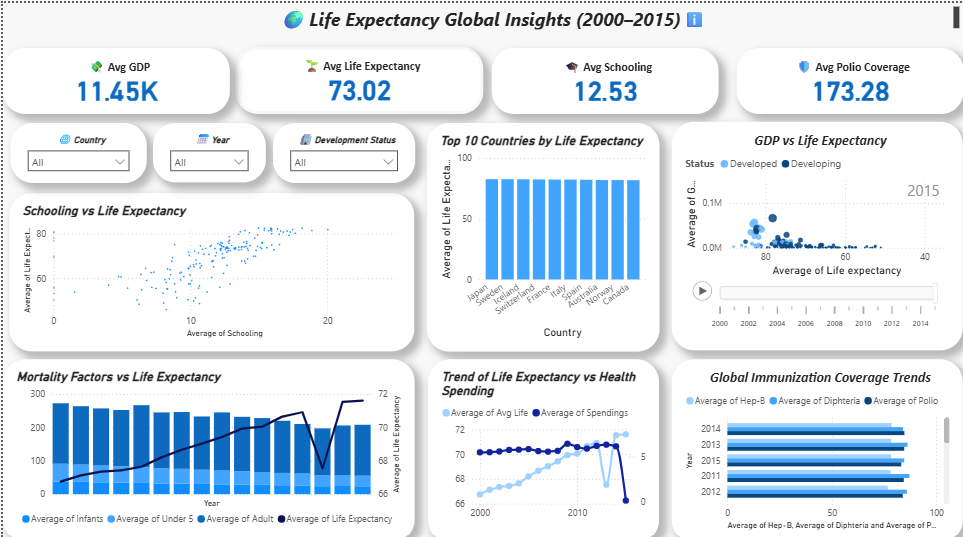

What the dashboard file says about the page in this screenshot:
{"tool":"powerbi","page":{"name":"Dashboard","canvas":[1280,720],"ordinal":0},"visuals":[{"type":"textbox","box":[0,0,1280,40],"z":0},{"type":"card","title":"🌱 Avg Life Expectancy","fields":{"Values":["Avg(life_analysis view_status_summary.avg_life)"]},"box":[310,57.5,330,89.6],"z":1000,"group":"g1"},{"type":"group","id":"g1","title":"Group 1","box":[0,57.5,1280,90],"z":1000},{"type":"card","title":"💸 Avg GDP","fields":{"Values":["Avg(life_analysis view_status_summary.avg_gdp)"]},"box":[0,59.2,302.4,88.3],"z":2000,"group":"g1"},{"type":"clusteredColumnChart","title":"Top 10 Countries by Life Expectancy","fields":{"Category":["life_analysis view_avg_life_expectancy.Country"],"Y":["Avg(life_analysis view_avg_life_expectancy.avg_life_expectancy)"]},"box":[565.1,160,310,305],"z":2000},{"type":"card","title":"🛡️ Avg Polio Coverage","fields":{"Values":["Sum(life_analysis view_status_summary.avg_polio)"]},"box":[977.6,59.2,302.4,88.3],"z":3000,"group":"g1"},{"type":"scatterChart","title":"GDP vs Life Expectancy","fields":{"Category":["life_analysis view_gdp_life (2).Country"],"X":["Avg(life_analysis view_gdp_life (2).Life_expectancy)"],"Y":["Avg(life_analysis view_gdp_life (2).GDP)"],"Series":["life_analysis view_gdp_life (2).Status"],"Play":["life_analysis view_gdp_life (2).Year"],"Size":["Avg(life_analysis view_gdp_life (2).GDP)"]},"box":[891.7,158.3,388.3,305],"z":3000},{"type":"card","title":"🎓 Avg Schooling","fields":{"Values":["Avg(life_analysis view_status_summary.avg_schooling)"]},"box":[651.8,59.2,302.4,88.3],"z":4000,"group":"g1"},{"type":"lineChart","title":"Trend of Life Expectancy vs Health Spending","fields":{"Category":["life_analysis life_analysis_view_expenditure_trend.Year"],"Y":["Avg(life_analysis life_analysis_view_expenditure_trend.avg_life)"],"Y2":["Avg(life_analysis life_analysis_view_expenditure_trend.avg_total_expenditure)"]},"box":[566,475,308.3,245],"z":4000},{"type":"scatterChart","title":"Schooling vs Life Expectancy","fields":{"X":["Avg(life_analysis view_school_life.Schooling)"],"Category":["life_analysis view_school_life.Country"],"Y":["Avg(life_analysis view_school_life.Life_expectancy)"]},"box":[8.9,253.3,540,211.1],"z":5000},{"type":"clusteredBarChart","title":"Global Immunization Coverage Trends","fields":{"Category":["life_analysis view_immunization_rates.Year"],"Y":["Avg(life_analysis view_immunization_rates.Hep-B)","Avg(life_analysis view_immunization_rates.Diphteria)","Avg(life_analysis view_immunization_rates.Polio)"]},"box":[891.7,475,388.3,245],"z":6000},{"type":"lineStackedColumnComboChart","title":"Mortality Factors vs Life Expectancy","fields":{"Category":["life_analysis view_mortality_factors.Year"],"Y":["Avg(life_analysis view_mortality_factors.Infant_deaths)","Avg(life_analysis view_mortality_factors.under_five_deaths)","Avg(life_analysis view_mortality_factors.Adult_mortality)"],"Y2":["Avg(life_analysis view_mortality_factors.Life_expectancy)"]},"box":[0,475.7,548.6,244.3],"z":7000},{"type":"slicer","title":"🌐 Country","fields":{"Values":["life_analysis view_immunization_rates.Country"]},"box":[9.2,159.2,181.5,80],"z":8000},{"type":"slicer","title":"📅 Year","fields":{"Values":["life_analysis life_analysis_view_expenditure_trend.Year"]},"box":[200.4,160,150,79.2],"z":9000},{"type":"slicer","title":"🏢 Development Status","fields":{"Values":["life_analysis view_gdp_life (2).Status"]},"box":[360,159.2,189.2,80],"z":10000},{"type":"card","title":"ℹ️","fields":{"Values":["life_analysis life_analysis_view_expenditure_trend.Measure"]},"box":[903,7,38,33],"z":10001}]}

Visuals, with their boxes in screenshot pixels (x1, y1, x2, y2), scaled from the page's 1280x720 canvas onto the 963x537 screenshot:
textbox: l=0, t=0, r=962, b=30
"🌱 Avg Life Expectancy" card: l=233, t=43, r=482, b=110
"Group 1" group: l=0, t=43, r=962, b=110
"💸 Avg GDP" card: l=0, t=44, r=228, b=110
"Top 10 Countries by Life Expectancy" clusteredColumnChart: l=425, t=119, r=658, b=347
"🛡️ Avg Polio Coverage" card: l=735, t=44, r=962, b=110
"GDP vs Life Expectancy" scatterChart: l=671, t=118, r=962, b=346
"🎓 Avg Schooling" card: l=490, t=44, r=718, b=110
"Trend of Life Expectancy vs Health Spending" lineChart: l=426, t=354, r=658, b=536
"Schooling vs Life Expectancy" scatterChart: l=7, t=189, r=413, b=346
"Global Immunization Coverage Trends" clusteredBarChart: l=671, t=354, r=962, b=536
"Mortality Factors vs Life Expectancy" lineStackedColumnComboChart: l=0, t=355, r=413, b=536
"🌐 Country" slicer: l=7, t=119, r=143, b=178
"📅 Year" slicer: l=151, t=119, r=264, b=178
"🏢 Development Status" slicer: l=271, t=119, r=413, b=178
"ℹ️" card: l=679, t=5, r=708, b=30
